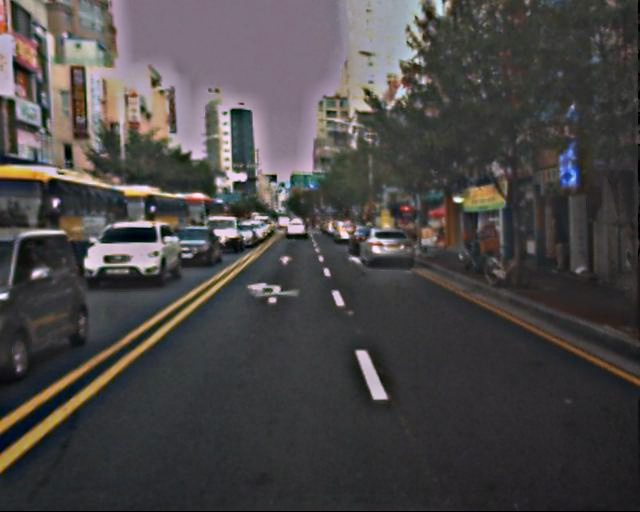person: (542, 213, 571, 278)
